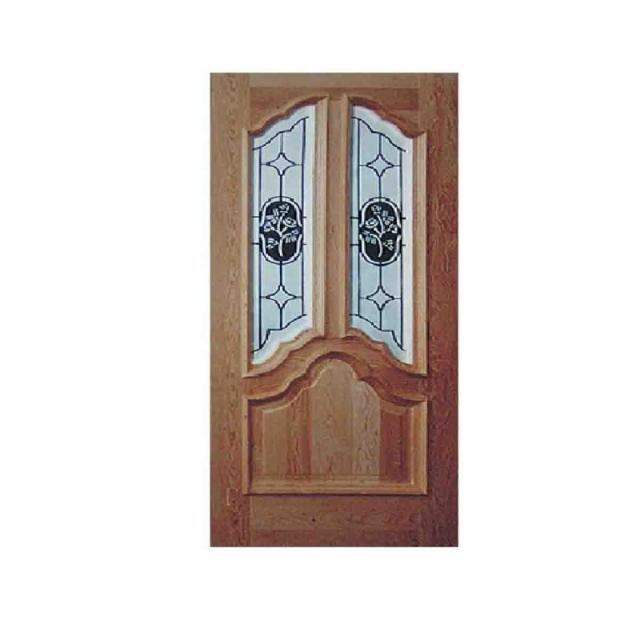door: (209, 72, 459, 547)
